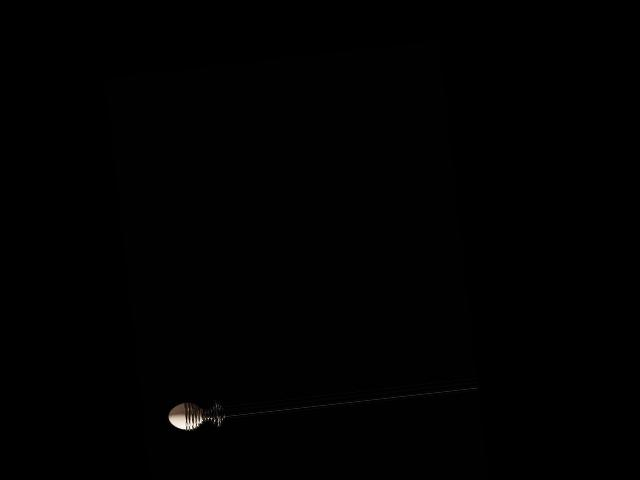egg: (167, 401, 204, 432)
